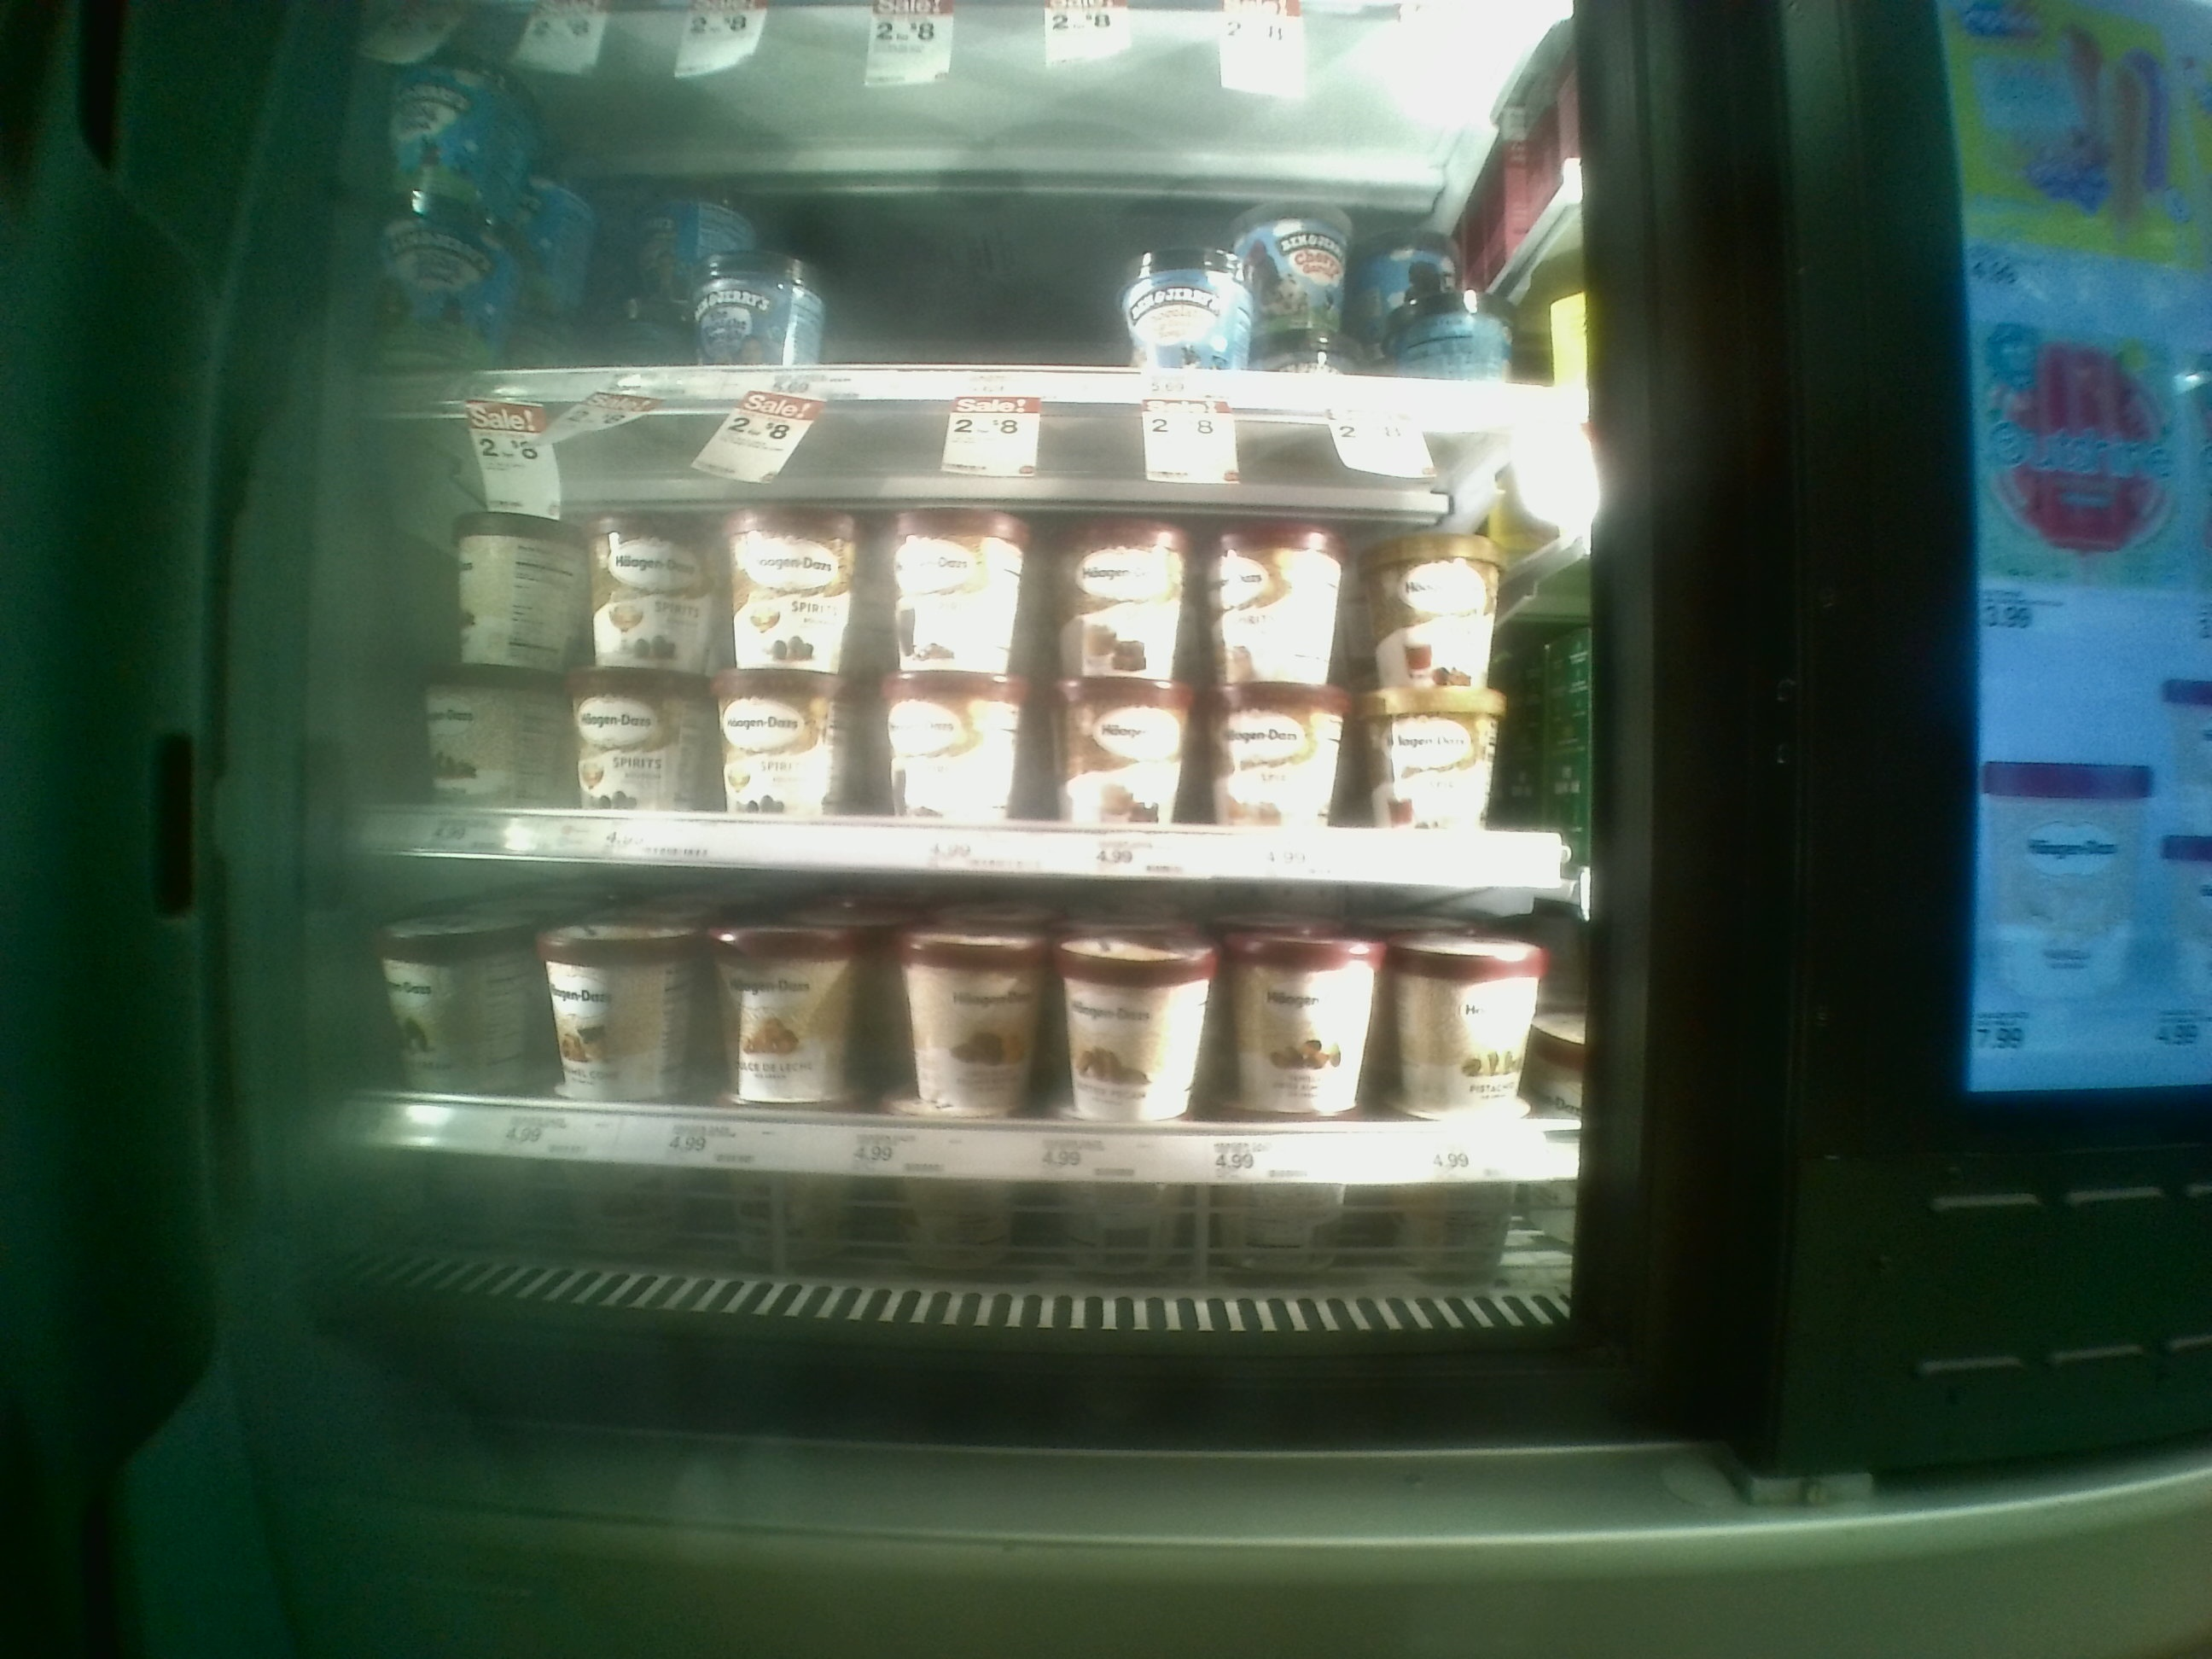shelf: (343, 413, 1606, 864), (348, 870, 1599, 1234)
